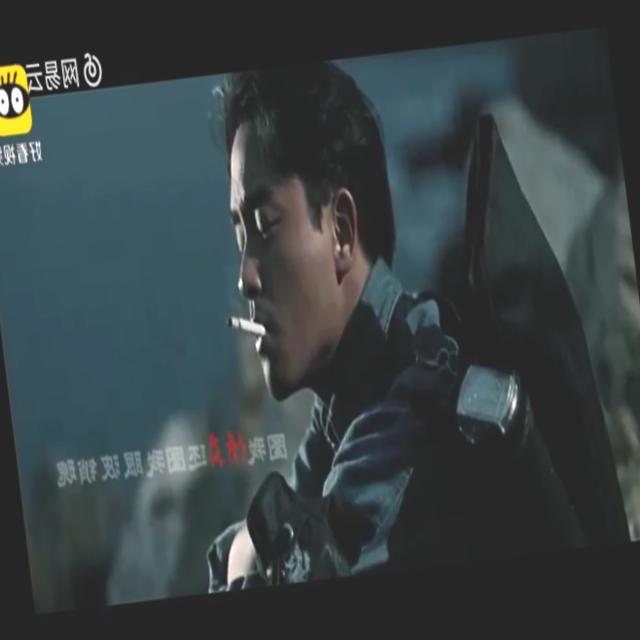smoke: (226, 312, 262, 337)
